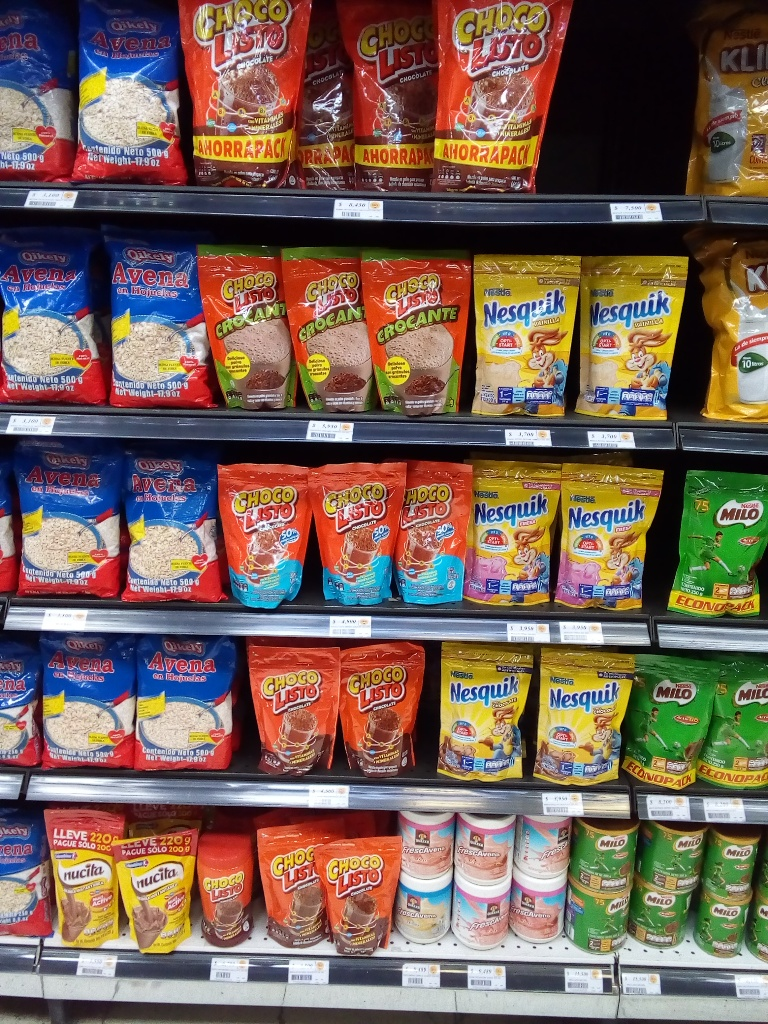COL0170103DYP44000: (437, 1, 580, 193)
COL0170104DYP20000: (395, 461, 471, 607)
COL0170203LAT20000: (698, 890, 749, 952)
COL0170203LAT40000: (632, 876, 697, 949)
COL0170303DYP20000: (536, 645, 640, 786)
COL0170306DYP20000: (573, 250, 686, 420)
